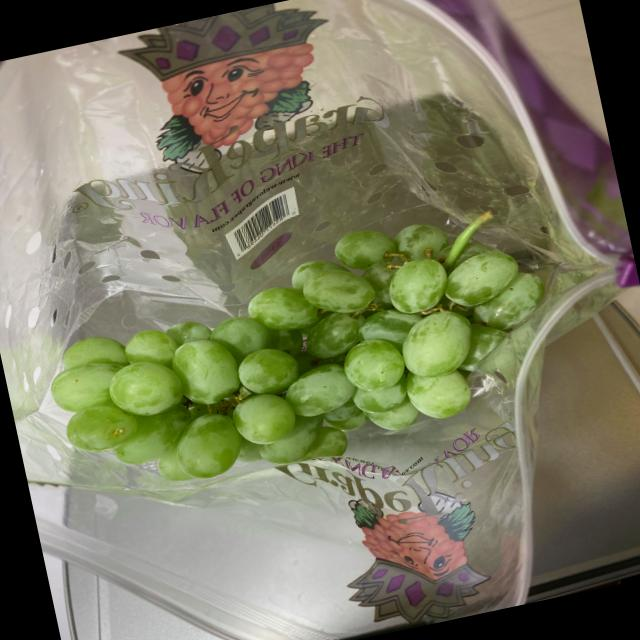grapes: (31, 197, 574, 502)
